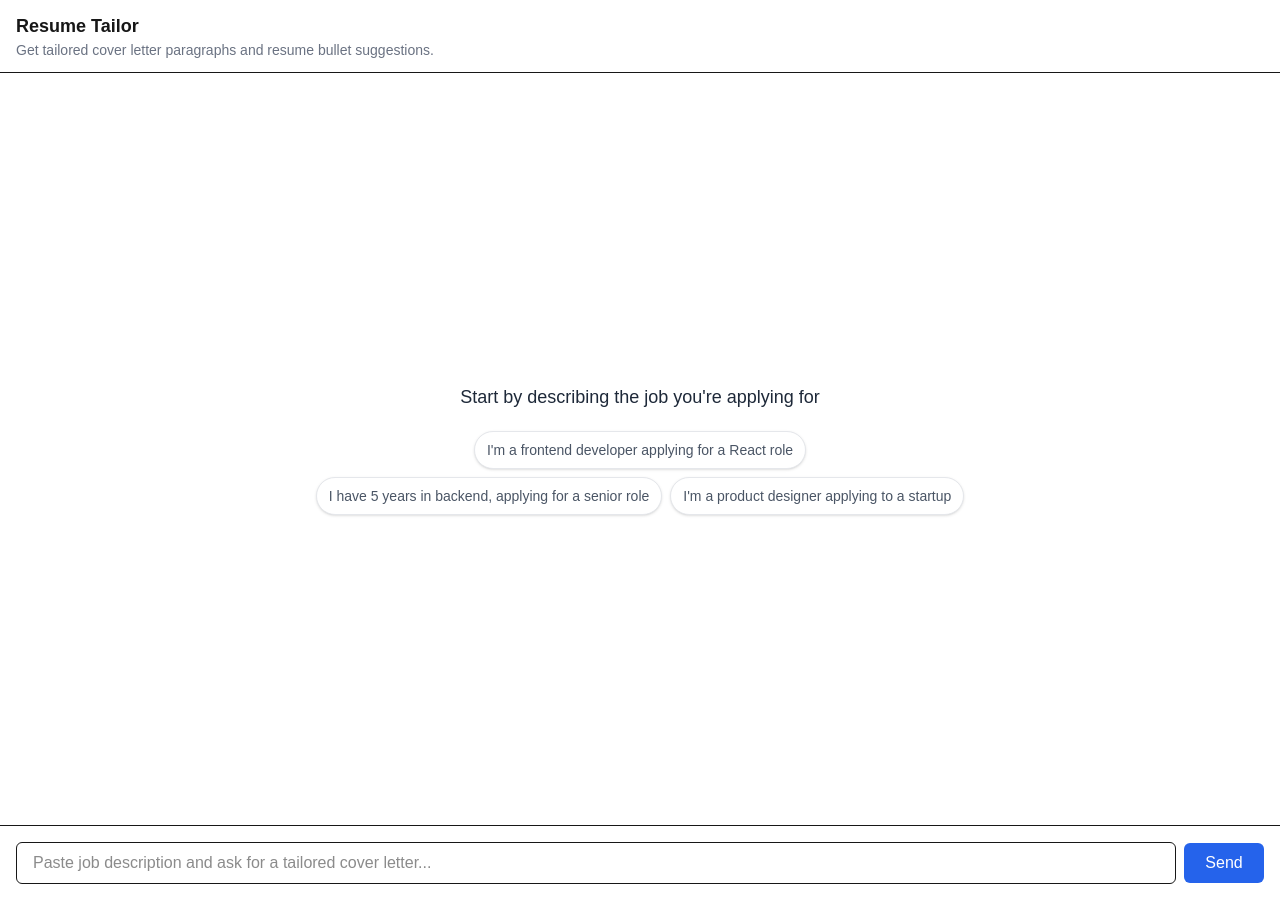
TailorPage › renders example prompts and fills the input when one is clicked
Check: the text "Start by describing the job you're applying for" is shown, box [460,383,820,411]
Click the button "I'm a frontend developer applying for a React role": [640, 450] box [474,431,806,469]
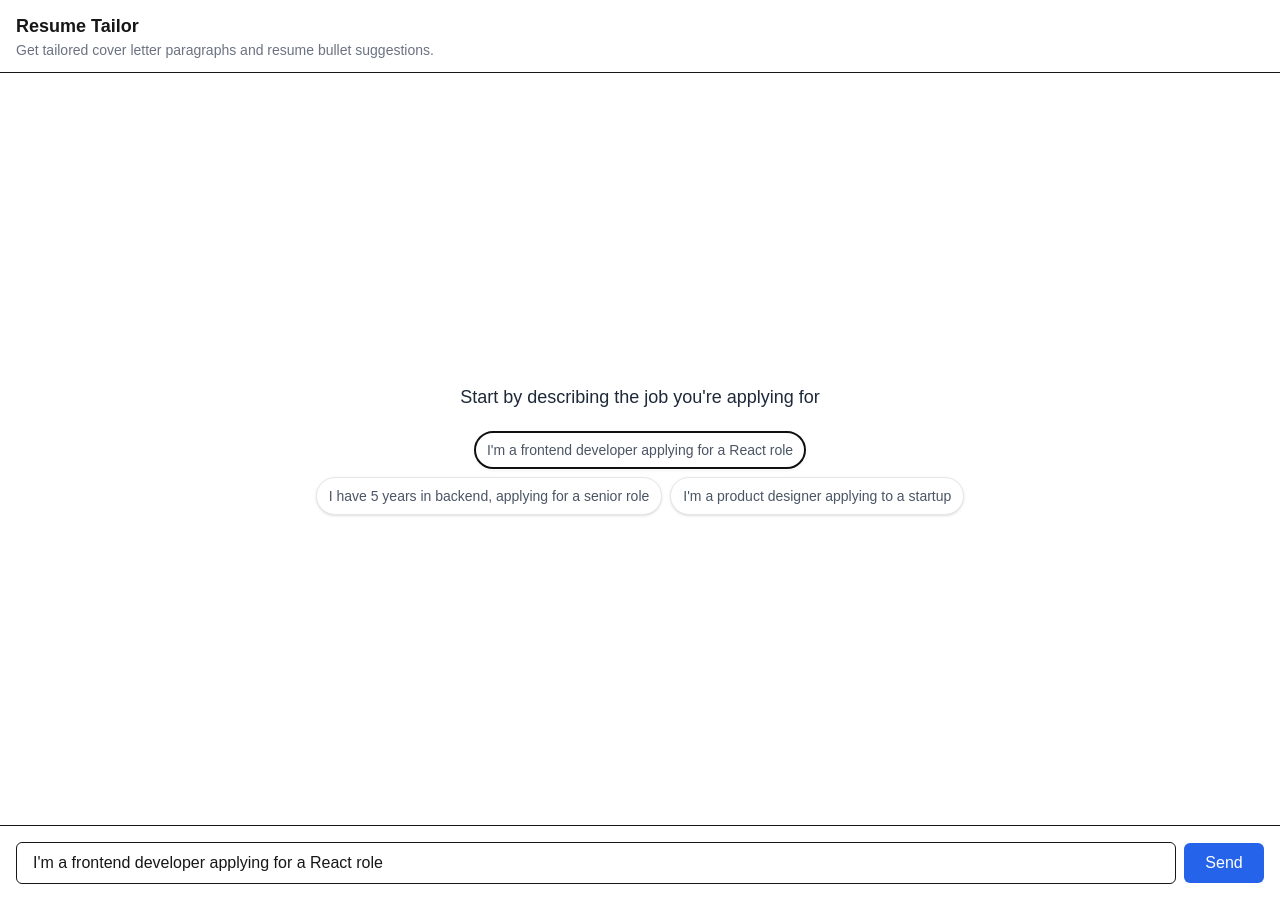
Check: the field with placeholder "Paste job description and ask for a tailored cover letter..." holds "I'm a frontend developer applying for a React role", box [16,842,1176,884]
